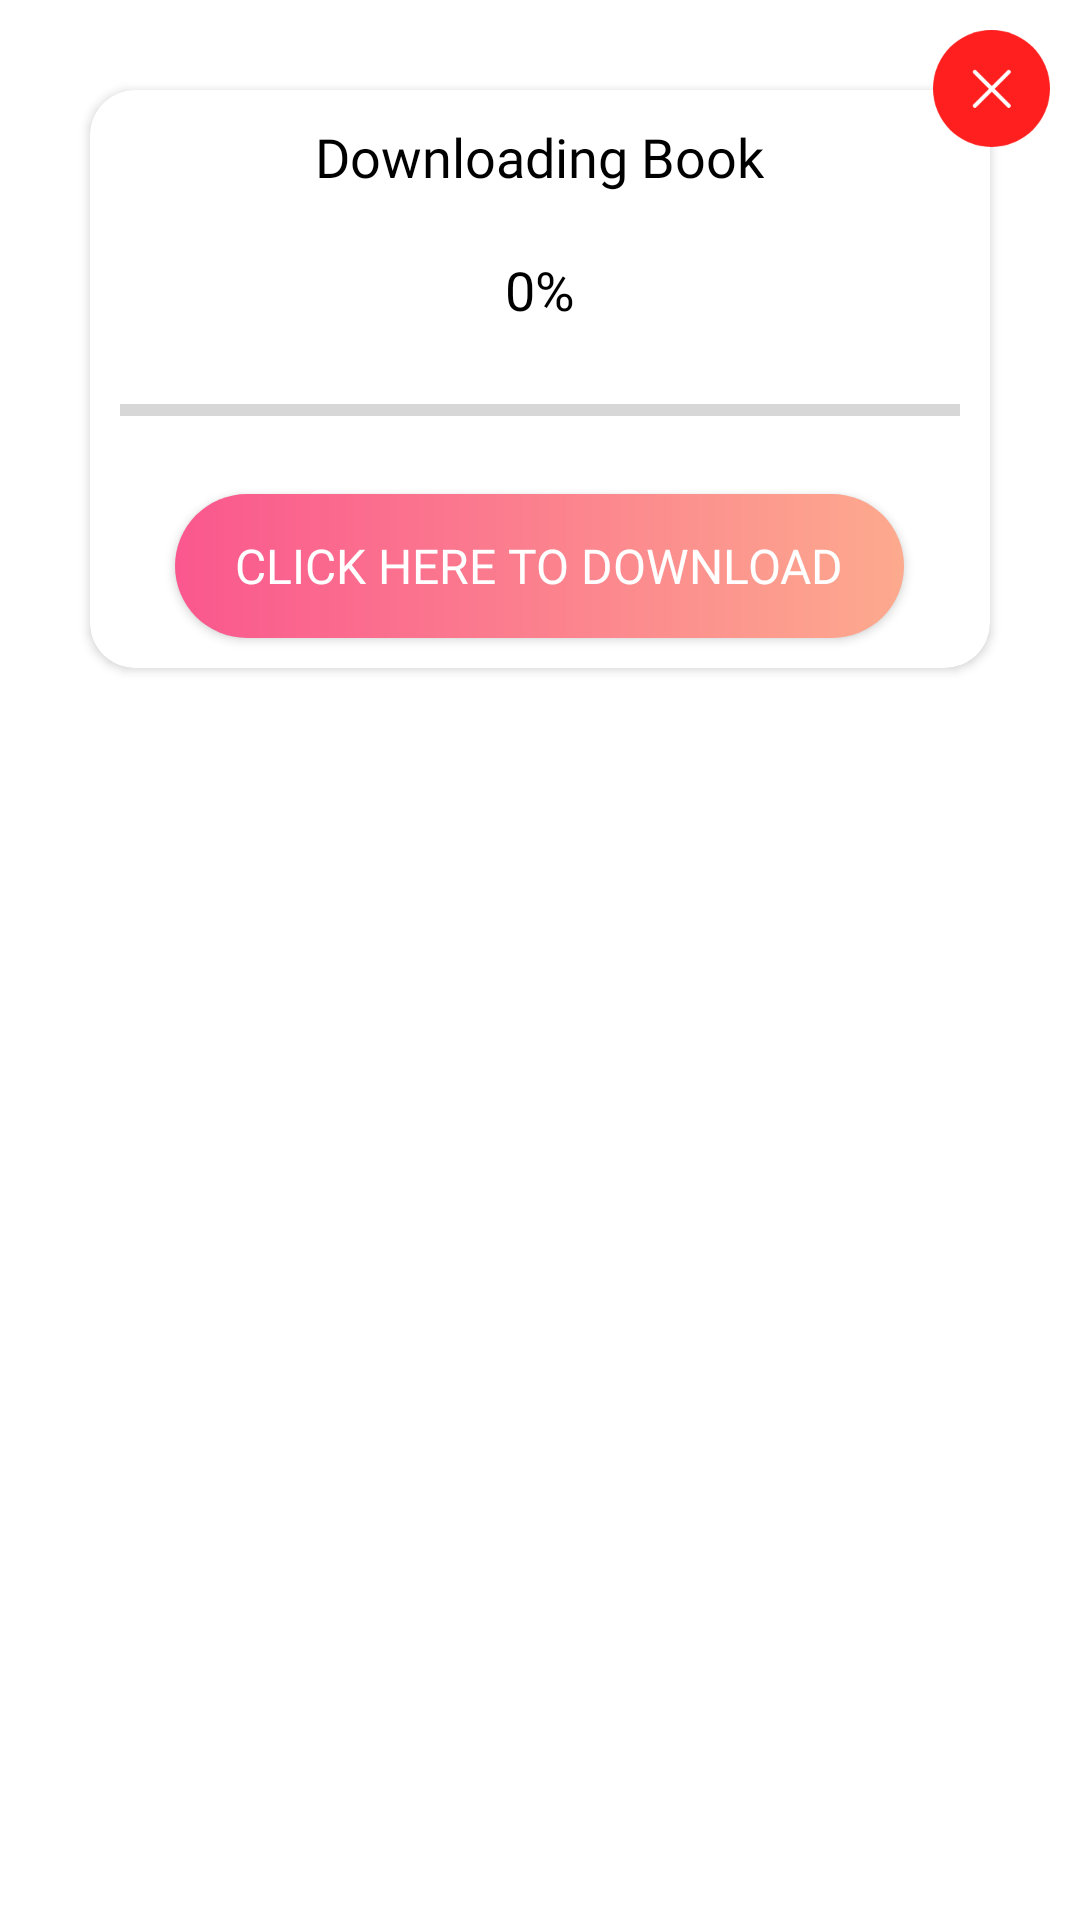

Point at icon controls on the screen. Image size 1080w x 1920h, points as (x,y).
close: (991,88)
